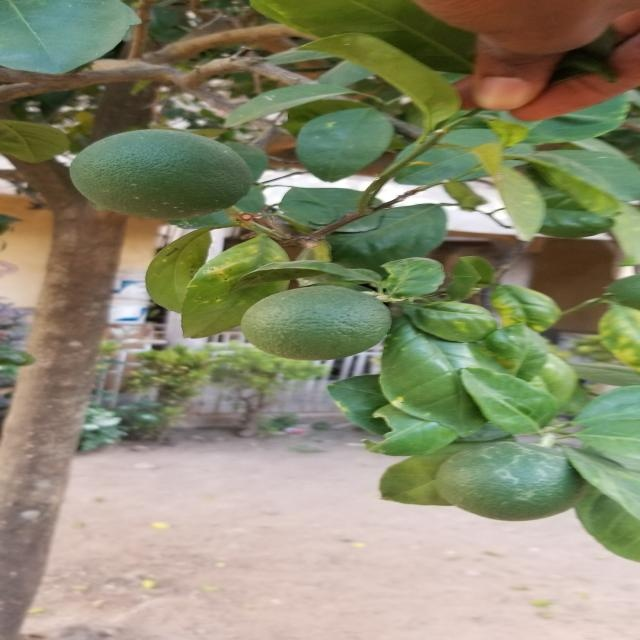agrume: (55, 124, 277, 233), (216, 278, 415, 374), (427, 435, 597, 536)
